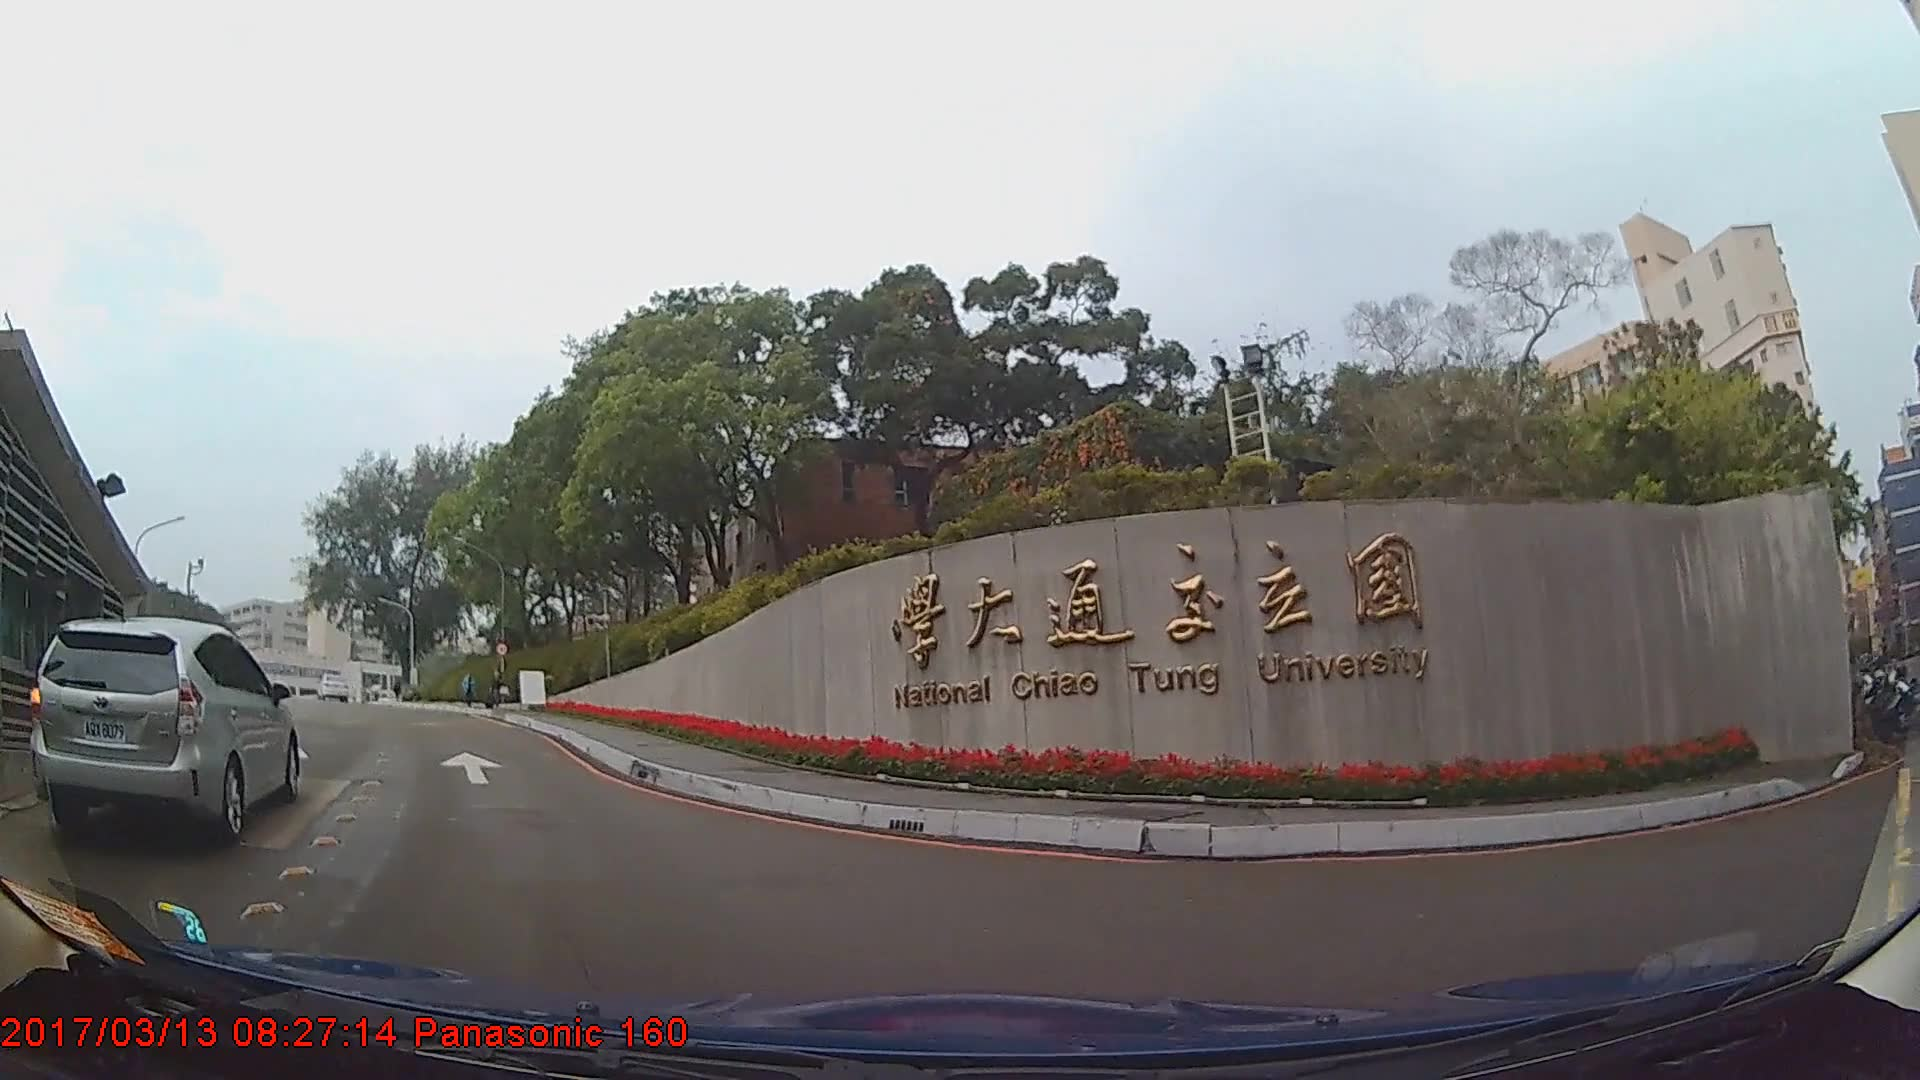vehicle: (30, 615, 301, 851), (316, 674, 349, 704)
